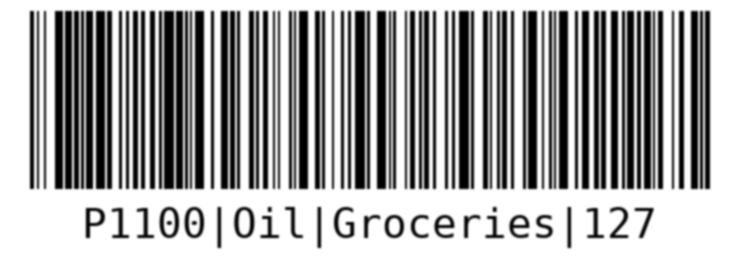milk: (24, 6, 720, 255)
